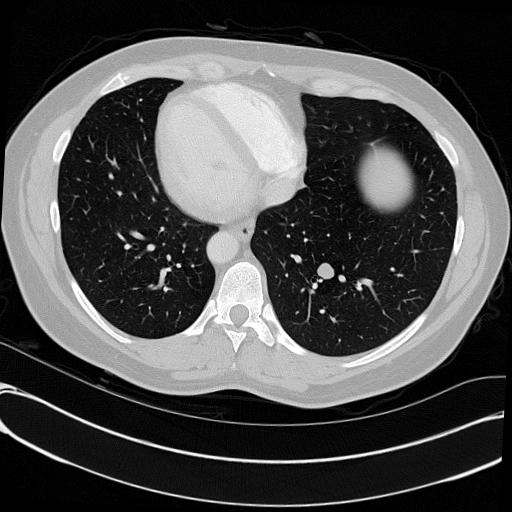nodule: (316, 260, 339, 283)
